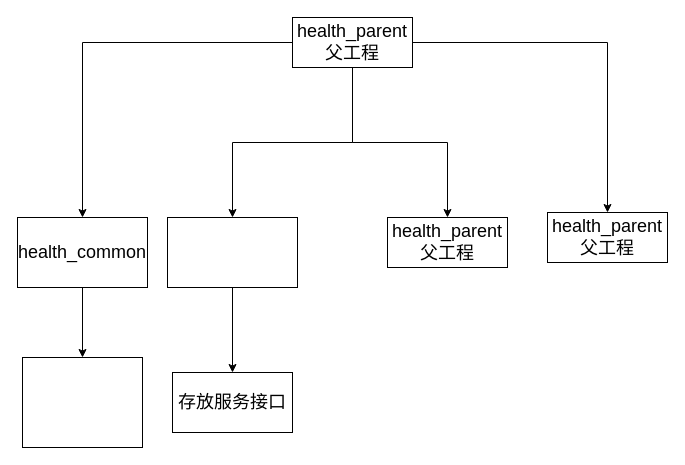
Image size: 685x465. Some labels were removed from this diagram. Each missing label, with the box of its shape:
health_interface: (166, 216, 298, 288)
存放通用组件，例如工具类、实体类等: (22, 356, 142, 448)
